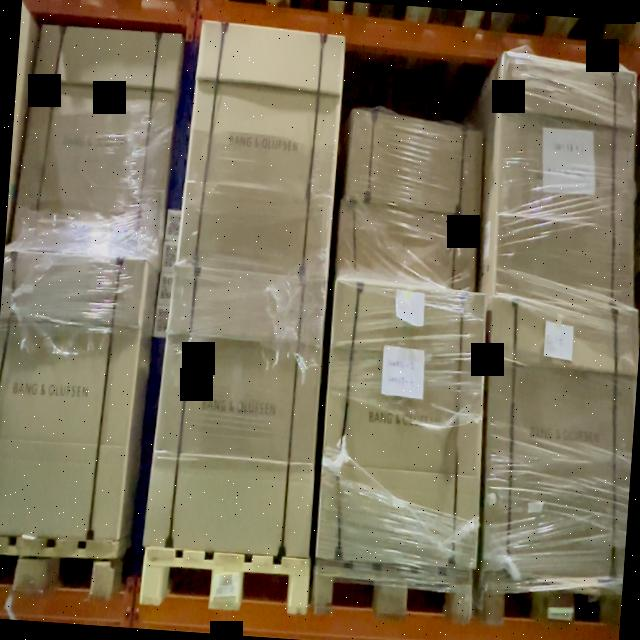box: (140, 271, 329, 557), (315, 283, 490, 567), (175, 24, 347, 281), (481, 301, 639, 576), (489, 52, 639, 309), (343, 109, 483, 217), (334, 199, 478, 291)
